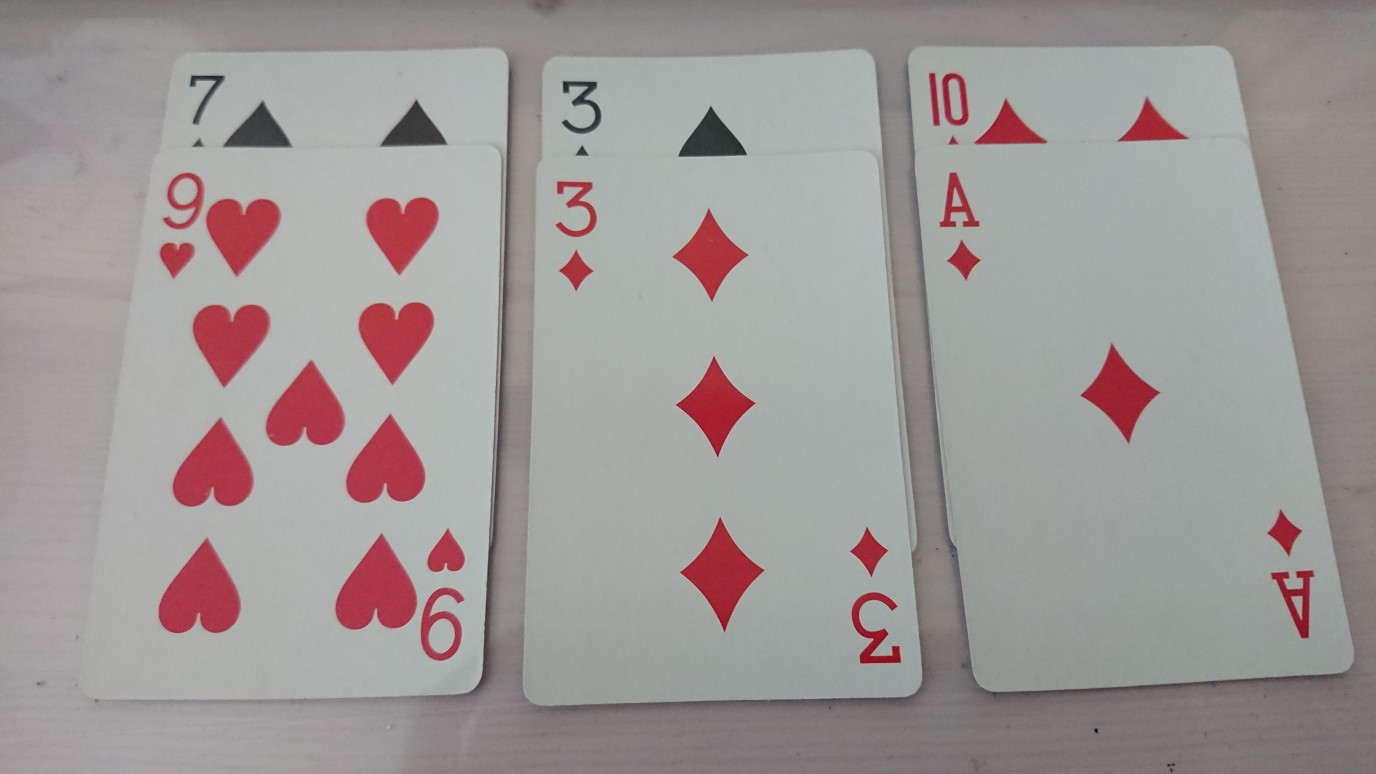10D: (925, 71, 972, 145)
3D: (550, 177, 600, 294)
3S: (558, 77, 604, 156)
7S: (181, 68, 228, 148)
9H: (155, 167, 207, 285)
AD: (934, 170, 985, 283)
